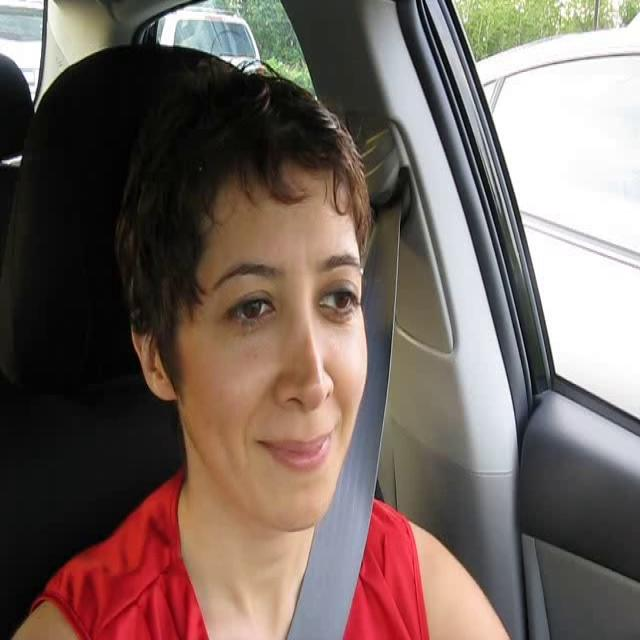close: (259, 425, 334, 474)
